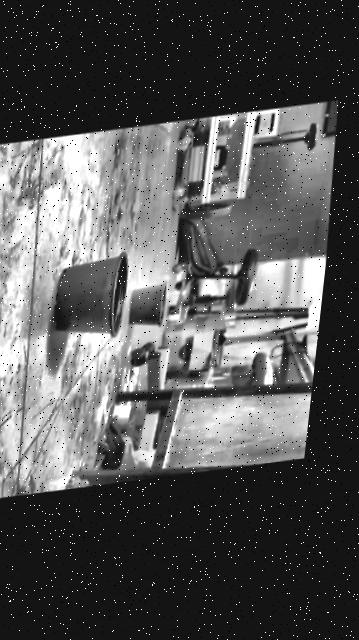pot: (47, 252, 131, 345), (126, 283, 167, 331)
